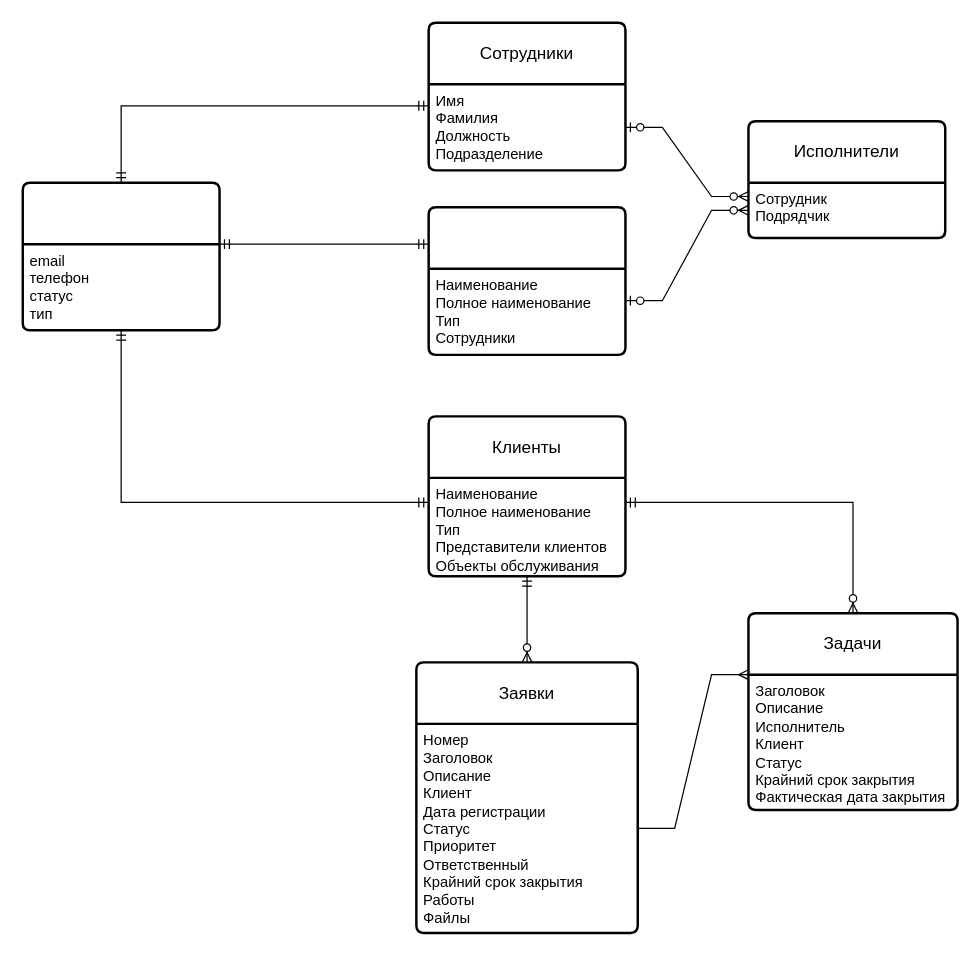
This 979x954 diagram has some shape labels left out. Each missing label, with the box of its shape:
Подрядчики: (427, 205, 626, 355)
Пользователи: (21, 181, 220, 331)
